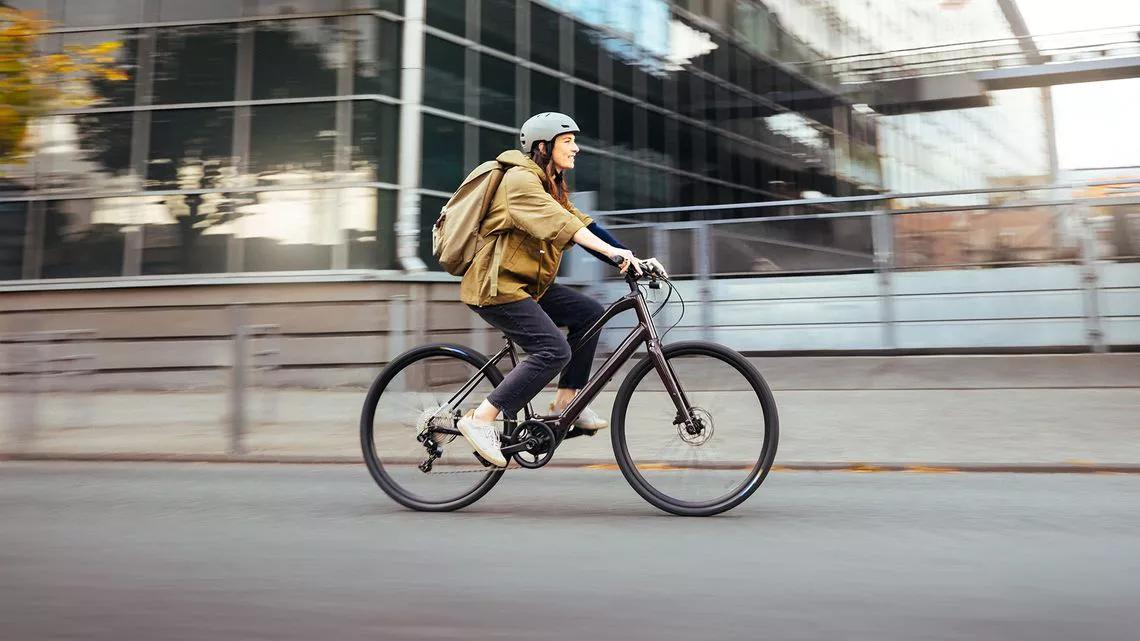bicycle: (357, 247, 787, 517)
